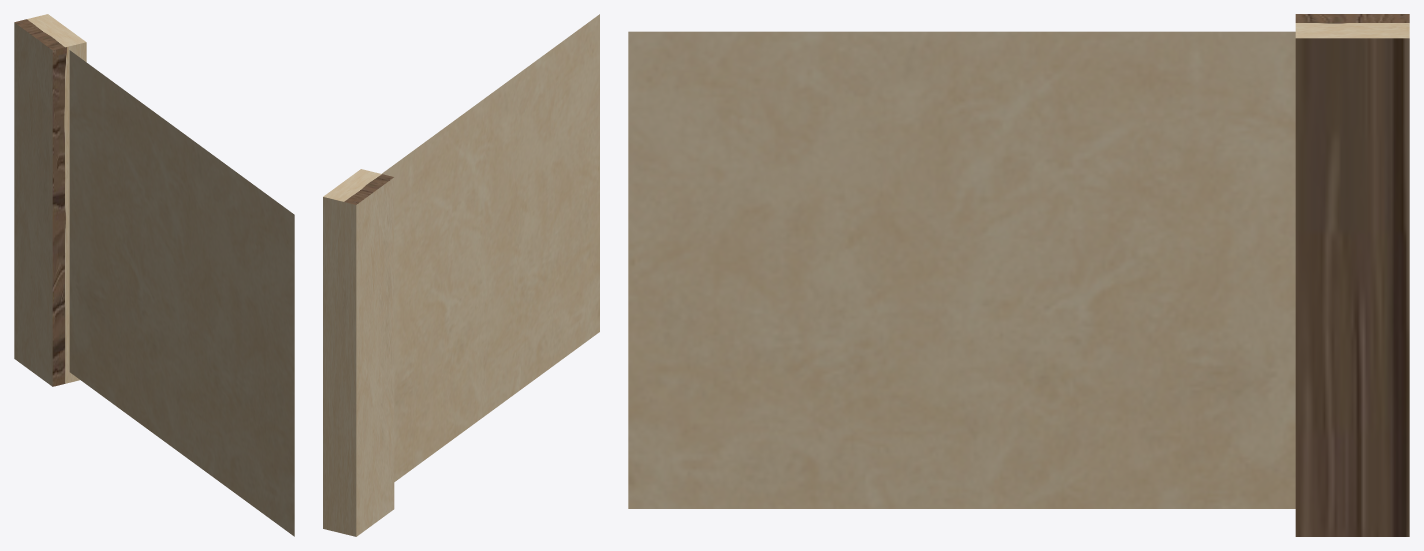
The model's file is answer.fbx.
3 renders of one model, left to right at view 1: azimuth 30°, elevation 25°; view 2: azimuth 150°, elevation 25°; view 3: azimuth 270°, elevation 25°, orthographic. The views are drawn at different scales.
Parts seen in each view (by area): view 1: Cube.002; view 2: Cube.002; view 3: Cube.002.
Boxes of the visible parts, left/top/right/bottom form: Cube.002: left=14, top=14, right=294, bottom=536; Cube.002: left=323, top=14, right=599, bottom=536; Cube.002: left=628, top=14, right=1409, bottom=536.
Size of the model in its own units: 8.27 by 78.58 by 112.
